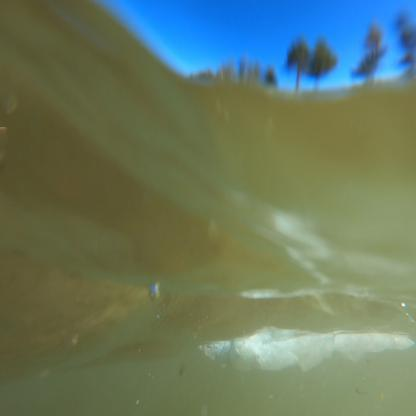Rác: (192, 312, 414, 369)
